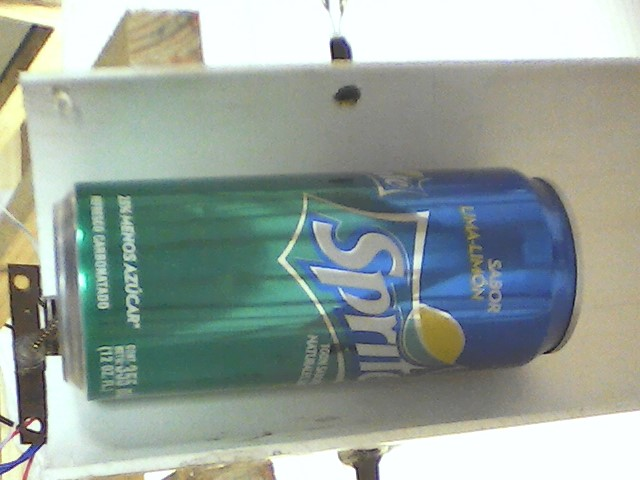lata: (47, 162, 597, 402)
